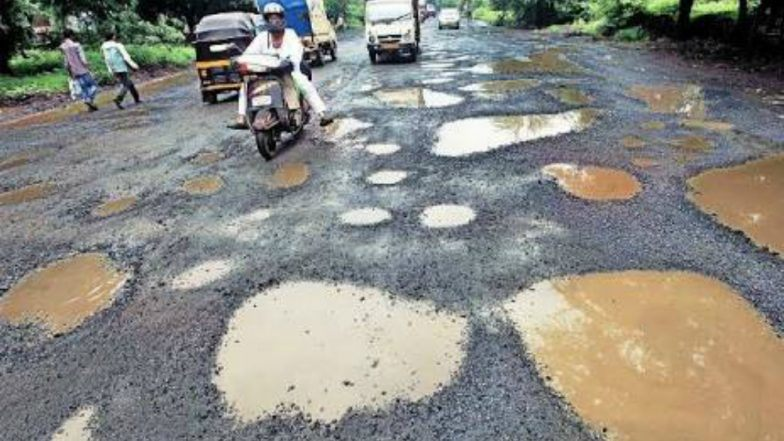pothole: (495, 265, 781, 439), (198, 284, 464, 415), (7, 235, 163, 341), (413, 89, 600, 175), (668, 130, 783, 246), (535, 146, 642, 225), (337, 80, 464, 135), (468, 45, 595, 77), (1, 151, 59, 214), (331, 201, 404, 249), (413, 190, 473, 238), (342, 197, 385, 236)
